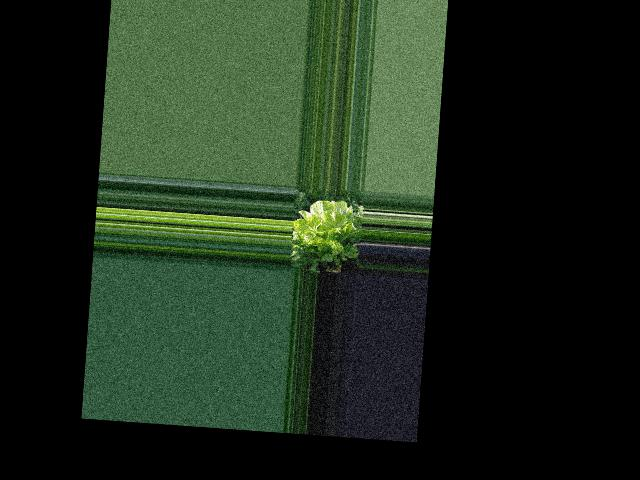lettuce: (297, 199, 361, 262)
